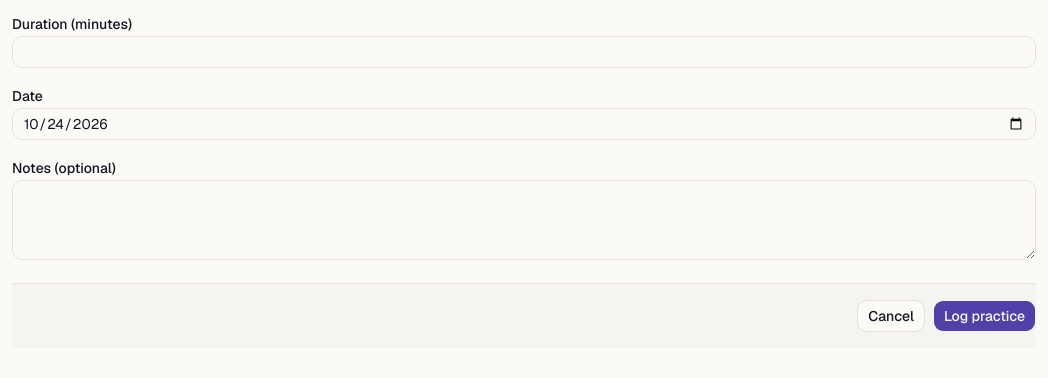
Test: SessionForm › requires a duration
This screenshot has width=1048, height=378.
Click the button "Log practice": [984, 316] box [933,300,1036,332]
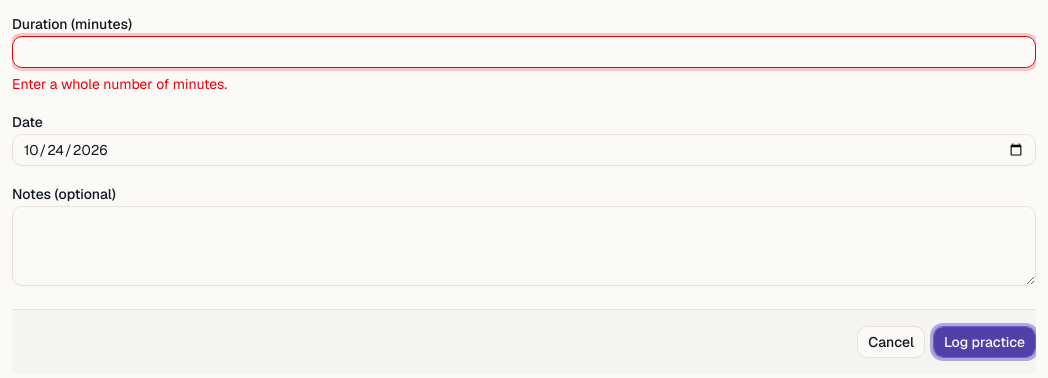
expect the text "Enter a whole number of minutes." is shown: met, box [12,75,227,93]
